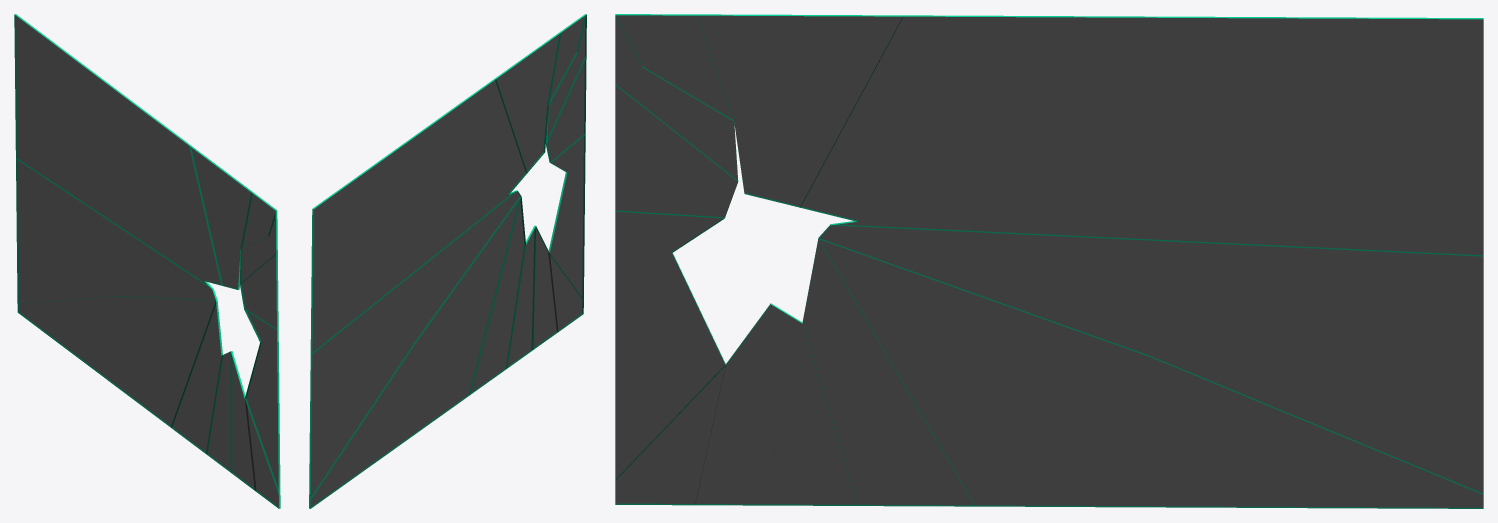
The model's file is glass.fbx.
3 views of the same model, side by side, from view 1: azimuth 30°, elevation 25°; view 2: azimuth 150°, elevation 25°; view 3: azimuth 270°, elevation 25° (orthographic). The views are drawn at different scales.
Visible parts, largest first — view 1: Cube.001; view 2: Cube.001; view 3: Cube.001.
Part boxes in pixels (x1,y1,x2,y2): Cube.001: [14, 14, 280, 508]; Cube.001: [309, 14, 586, 508]; Cube.001: [615, 14, 1483, 508].
Size of the model in its own units: 14.85 by 423 by 684.
